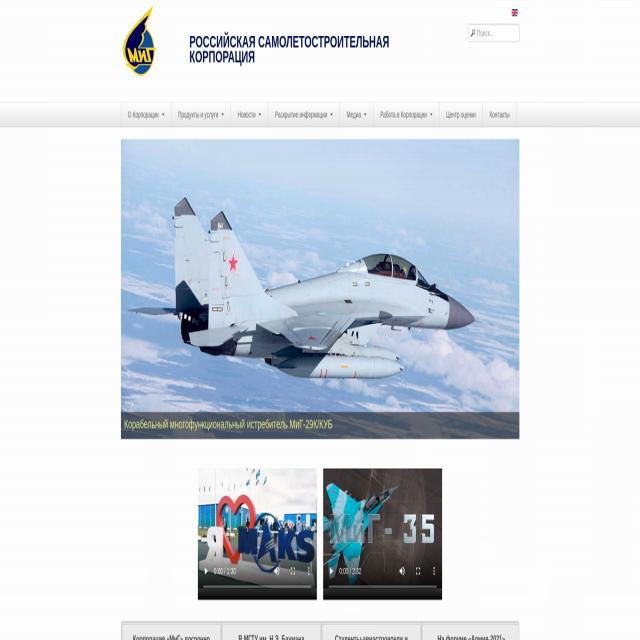button: (323, 468, 442, 599), (198, 468, 316, 599), (121, 6, 161, 76), (268, 103, 340, 127), (374, 103, 439, 127), (171, 103, 231, 127), (121, 103, 171, 127), (439, 103, 483, 127), (231, 103, 268, 127), (340, 103, 374, 127), (483, 103, 516, 127), (398, 565, 406, 578), (273, 566, 281, 578), (414, 565, 422, 577), (289, 565, 296, 578), (432, 564, 438, 578), (306, 565, 312, 578), (328, 566, 334, 578), (203, 566, 209, 576), (512, 9, 518, 16)
field: (468, 24, 519, 42)
